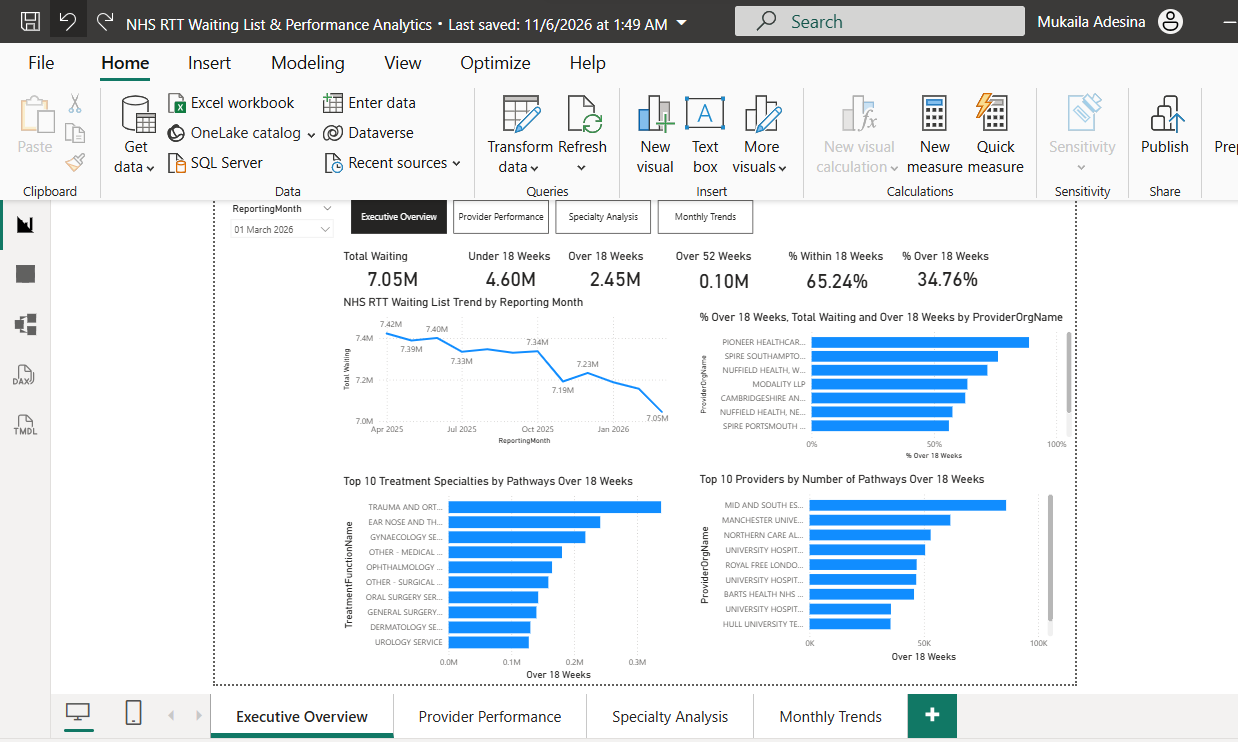

The dashboard page shown, as its layout file describes it:
{"tool":"powerbi","page":{"name":"Executive Overview","canvas":[1280,720],"ordinal":0},"visuals":[{"type":"card","title":"Total Waiting","fields":{"Values":["rpt vw_RTTIncompletePathways.Latest Month Waiting"]},"box":[186.7,72,156,69.3],"z":0},{"type":"slicer","fields":{"Values":["rpt vw_RTTIncompletePathways.ReportingMonth"]},"box":[13.3,0,158.7,85.3],"z":1000},{"type":"card","title":"Under 18 Weeks","fields":{"Values":["rpt vw_RTTIncompletePathways.Latest Month Under 18 Weeks"]},"box":[372.3,72.5,136,69.3],"z":2000},{"type":"card","title":"Over 18 Weeks","fields":{"Values":["rpt vw_RTTIncompletePathways.Latest Month Over 18 Weeks"]},"box":[521.6,72.5,149.3,69.3],"z":3000},{"type":"card","title":"Over 52 Weeks","fields":{"Values":["rpt vw_RTTIncompletePathways.Latest Month Over 52 Weeks"]},"box":[680.3,72.5,153.3,74.7],"z":4000},{"type":"card","title":"% Within 18 Weeks","fields":{"Values":["rpt vw_RTTIncompletePathways.Latest Month % Within 18 Weeks"]},"box":[848.3,72.5,154.7,74.7],"z":5000},{"type":"card","title":"% Over 18 Weeks","fields":{"Values":["rpt vw_RTTIncompletePathways.Latest Month % Over 18 Weeks"]},"box":[1017.6,72.5,145.3,69.3],"z":6000},{"type":"lineChart","title":"NHS RTT Waiting List Trend by Reporting Month","fields":{"Y":["rpt vw_RTTIncompletePathways.Total Waiting"],"Category":["rpt vw_RTTIncompletePathways.ReportingMonth"]},"box":[185.3,141.3,508,228],"z":7000},{"type":"clusteredBarChart","fields":{"Category":["rpt vw_RTTIncompletePathways.ProviderOrgName"],"Y":["rpt vw_RTTIncompletePathways.% Over 18 Weeks"]},"box":[716,164,564,228],"z":8000},{"type":"clusteredBarChart","title":"Top 10 Providers by Number of Pathways Over 18 Weeks","fields":{"Category":["rpt vw_RTTIncompletePathways.ProviderOrgName"],"Y":["rpt vw_RTTIncompletePathways.Over 18 Weeks"]},"box":[716,405.3,536,286.7],"z":9000},{"type":"clusteredBarChart","title":"Top 10 Treatment Specialties by Pathways Over 18 Weeks","fields":{"Category":["rpt vw_RTTIncompletePathways.TreatmentFunctionName"],"Y":["rpt vw_RTTIncompletePathways.Over 18 Weeks"]},"box":[186.7,408,508,312],"z":10000},{"type":"pageNavigator","box":[202.7,0,600,50.7],"z":11000}]}

Visuals, with their boxes on the page's 1280x720 design canvas (x1, y1, x2, y2). These are canvas units, not pixel positions in the 1238x742 screenshot, which may show the page scaled, cropped or inside an application window:
"Total Waiting" card: 187:72:343:141
slicer - rpt vw_RTTIncompletePathways.ReportingMonth: 13:0:172:85
"Under 18 Weeks" card: 372:72:508:142
"Over 18 Weeks" card: 522:72:671:142
"Over 52 Weeks" card: 680:72:834:147
"% Within 18 Weeks" card: 848:72:1003:147
"% Over 18 Weeks" card: 1018:72:1163:142
"NHS RTT Waiting List Trend by Reporting Month" lineChart: 185:141:693:369
clusteredBarChart - rpt vw_RTTIncompletePathways.ProviderOrgName x rpt vw_RTTIncompletePathways.% Over 18 Weeks: 716:164:1280:392
"Top 10 Providers by Number of Pathways Over 18 Weeks" clusteredBarChart: 716:405:1252:692
"Top 10 Treatment Specialties by Pathways Over 18 Weeks" clusteredBarChart: 187:408:695:720
pageNavigator: 203:0:803:51
